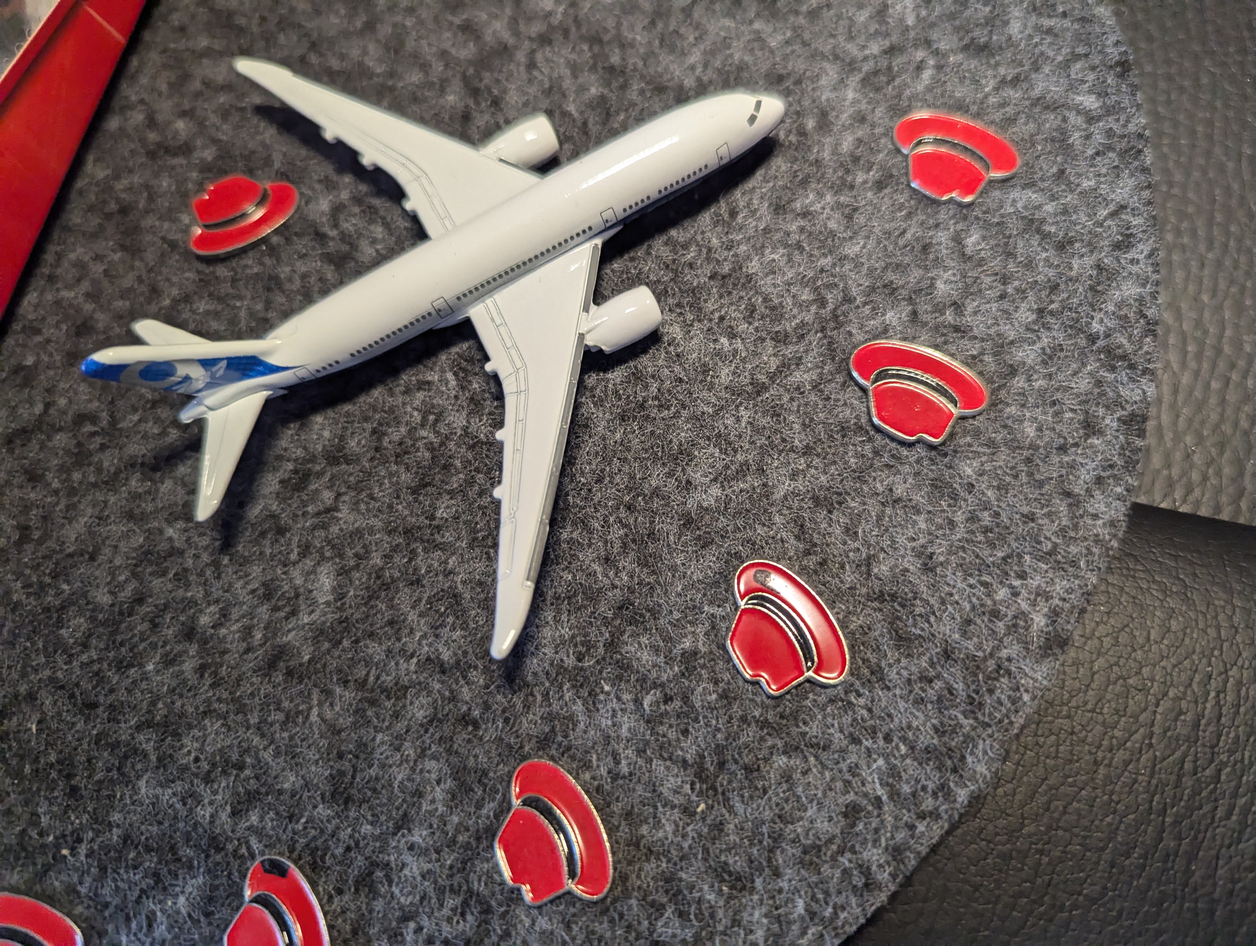Airplane: (60, 48, 821, 673)
Red-Hat: (476, 735, 630, 920), (837, 317, 1011, 472), (717, 542, 855, 723), (872, 103, 1031, 215), (169, 160, 322, 265), (207, 834, 340, 946)
Scratch: (749, 560, 795, 604), (250, 850, 303, 885)
